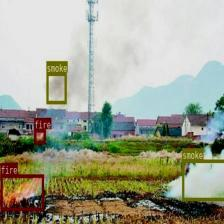fire: (0, 174, 44, 210), (34, 129, 45, 144)
smoke: (181, 159, 224, 200), (46, 72, 66, 103)
